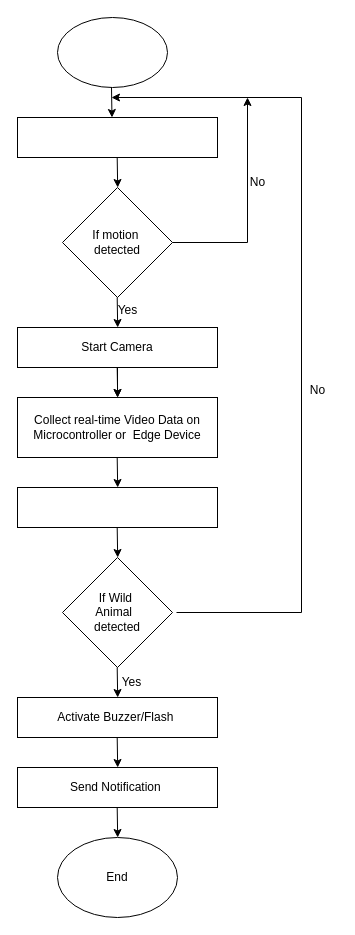
This 355x935 diagram has some shape labels left out. Here are the shapes that lost their labels. From the top down, the centre of each, then its label:
the point at 112,52: Start
the point at 117,137: Initialize PIR Sensor
the point at 117,507: Run Animal Detection AI Model
